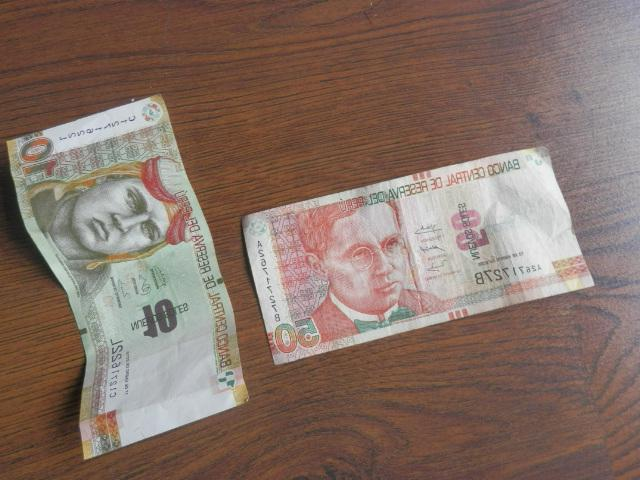B10: (4, 94, 250, 459)
B50: (242, 148, 594, 366)
